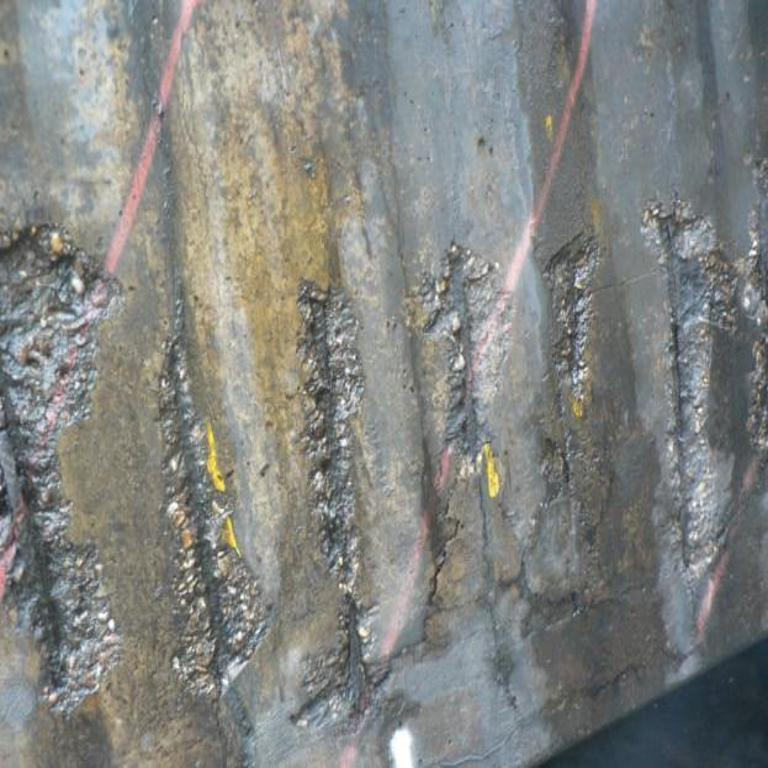spalling: (0, 225, 118, 713), (642, 200, 768, 622), (160, 332, 267, 697), (296, 282, 364, 727), (410, 244, 516, 503), (538, 232, 614, 505)
